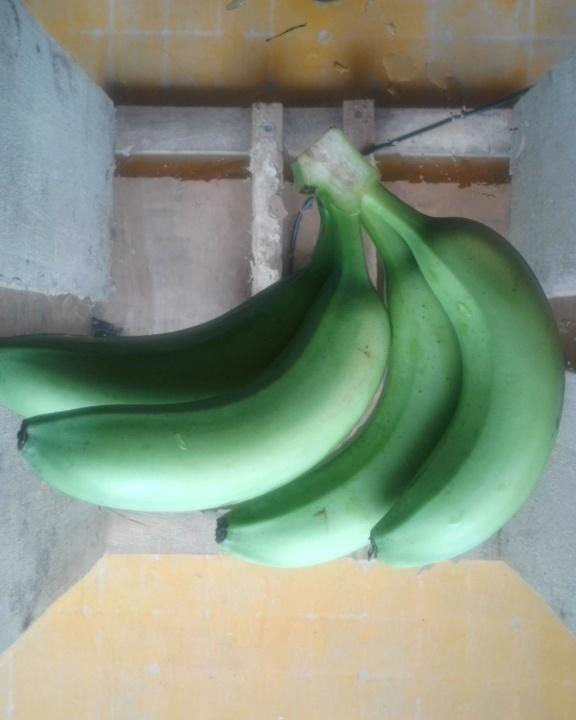SPOT: (1, 133, 576, 579)
